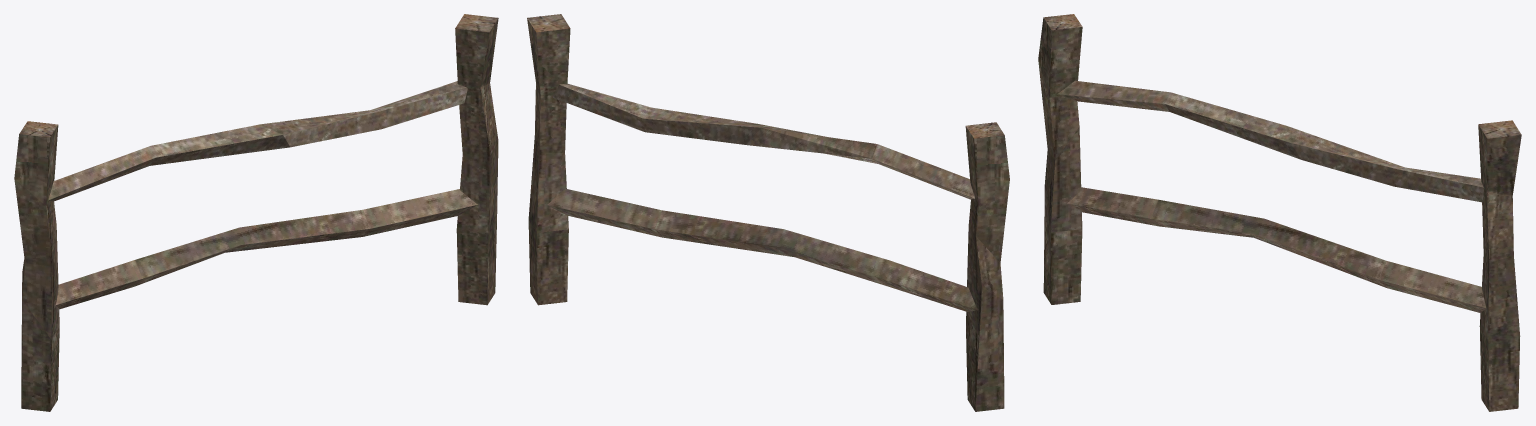
File: lf_wooden_fence_closed.glb
3 renders of one model, left to right at view 1: azimuth 30°, elevation 25°; view 2: azimuth 150°, elevation 25°; view 3: azimuth 330°, elevation 25°, orthographic.
Visible parts, largest first — view 1: wooden_fence_closed; view 2: wooden_fence_closed; view 3: wooden_fence_closed.
Part boxes in pixels (bbox=[...]): wooden_fence_closed: bbox=[14, 14, 498, 411]; wooden_fence_closed: bbox=[527, 14, 1009, 411]; wooden_fence_closed: bbox=[1038, 14, 1521, 411].
Bounding box in the file's own units: 2.21 × 1.2 × 0.199.
1 material, 1 textured.
